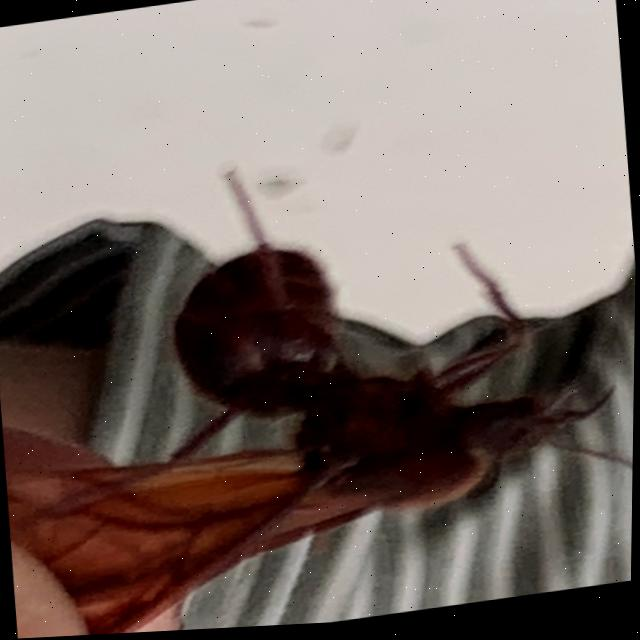Alive-Female-Alate: (0, 114, 638, 640)
